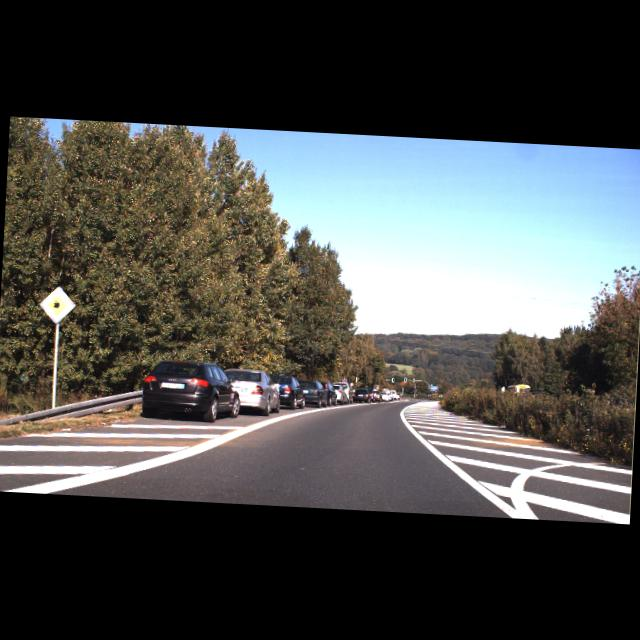other: (40, 286, 77, 324)
